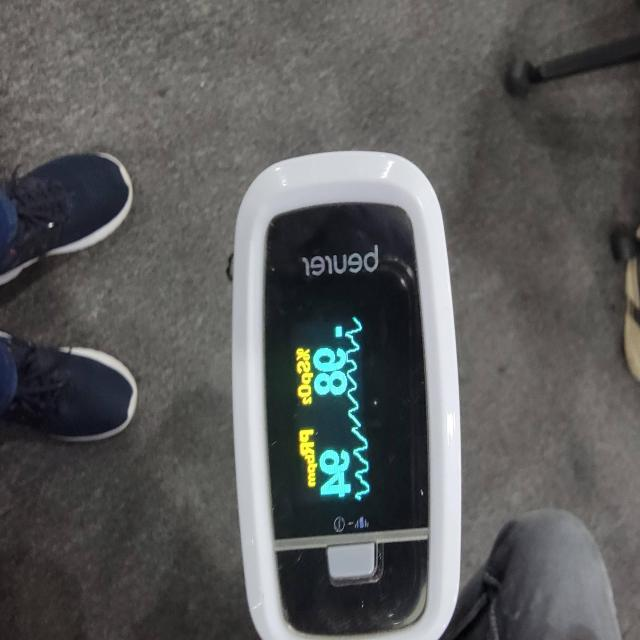spo2: (232, 152, 463, 640)
